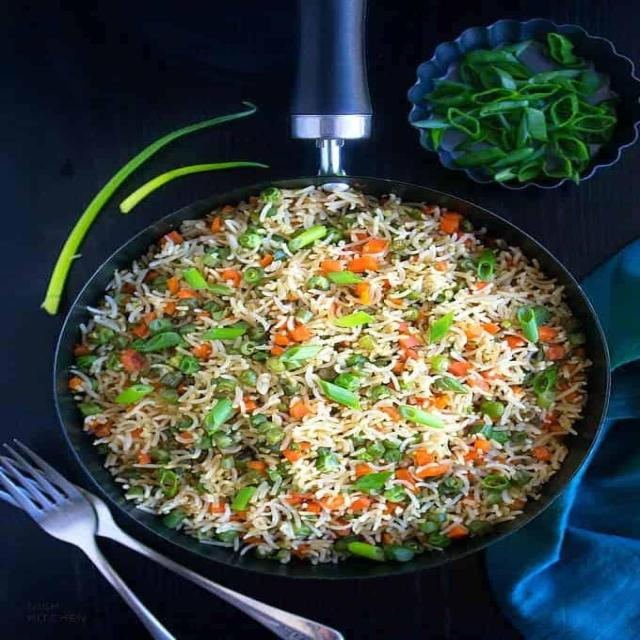Nasi Goreng: (65, 182, 591, 565)
